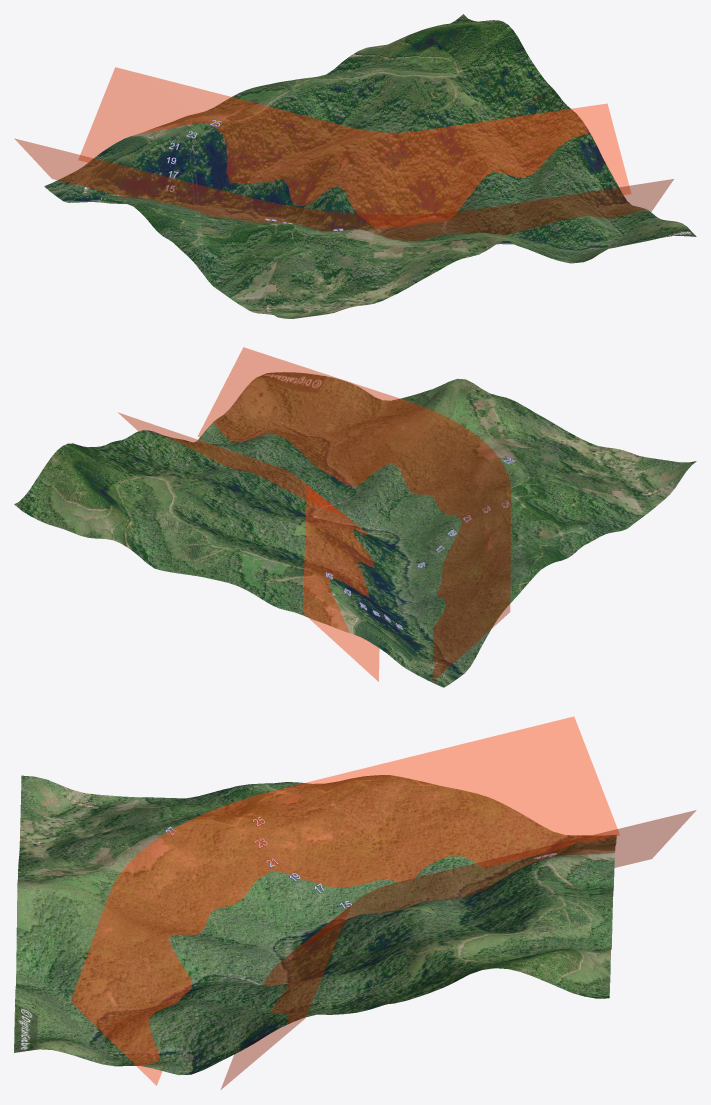
File: curva16.glb
3 renders of one model, top to bottom at view 1: azimuth 30°, elevation 25°; view 2: azimuth 150°, elevation 25°; view 3: azimuth 270°, elevation 25°, orthographic. The views are drawn at different scales.
Parts seen in each view (by area): view 1: root; view 2: root; view 3: root.
Part boxes in pixels (box(x1,y1,x2,y2)): root: box(14, 14, 696, 318); root: box(14, 347, 696, 687); root: box(14, 716, 696, 1089).
Size of the model in its own units: 2334 by 444 by 2278.
5 materials, 1 textured.
